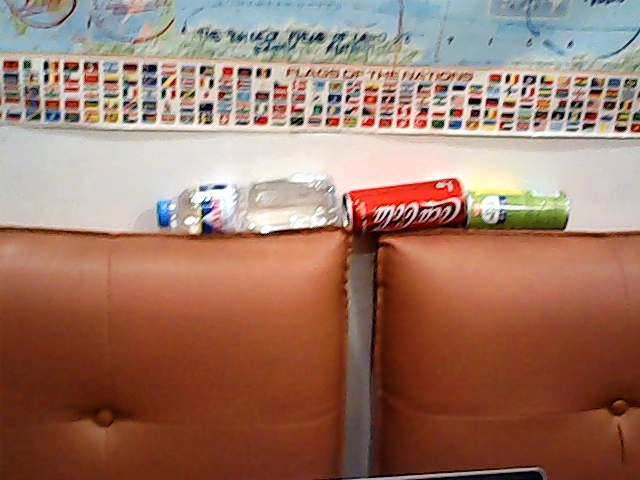Cola: (340, 168, 468, 240)
Pine Juice: (466, 181, 576, 236)
Summit Water: (152, 174, 334, 236)
